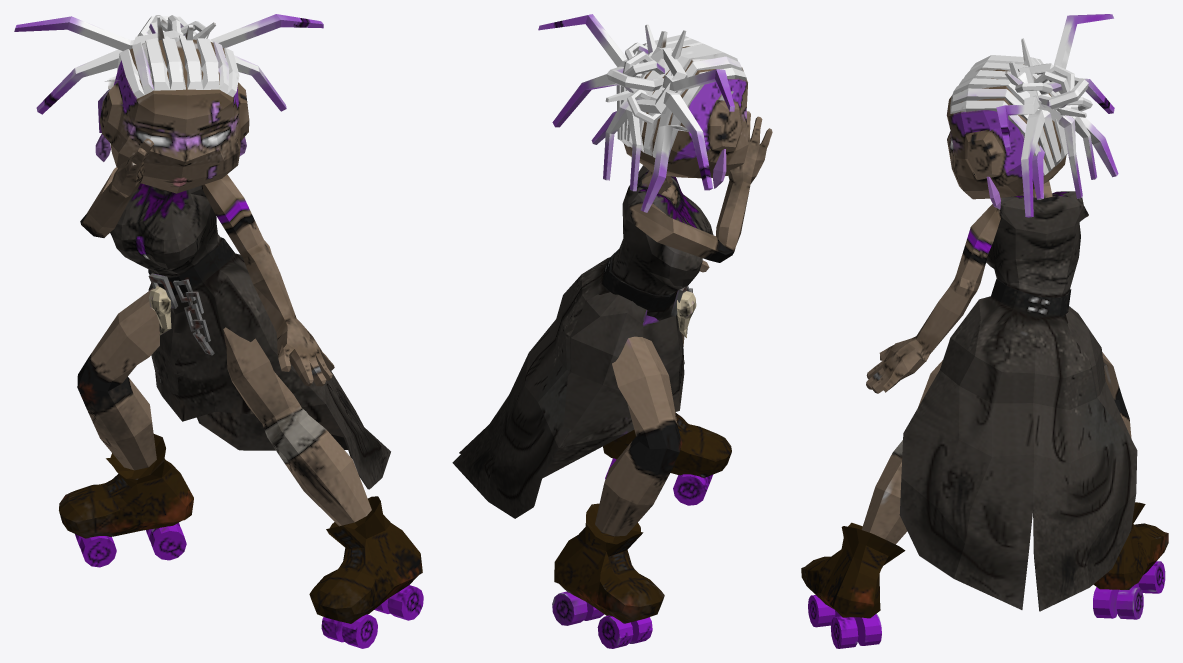
File: bruja_000079.obj
3 renders of one model, left to right at view 1: azimuth 30°, elevation 25°; view 2: azimuth 150°, elevation 25°; view 3: azimuth 270°, elevation 25°, orthographic. The views are drawn at different scales.
Visible parts, largest first — view 1: Bruja_Plane.001; view 2: Bruja_Plane.001; view 3: Bruja_Plane.001.
Boxes of the visible parts, x1,y1,x2,y2 form: Bruja_Plane.001: (14, 14, 423, 648); Bruja_Plane.001: (452, 14, 772, 648); Bruja_Plane.001: (801, 14, 1168, 648).
Size of the model in its own units: 9.07 by 15.42 by 9.26.
